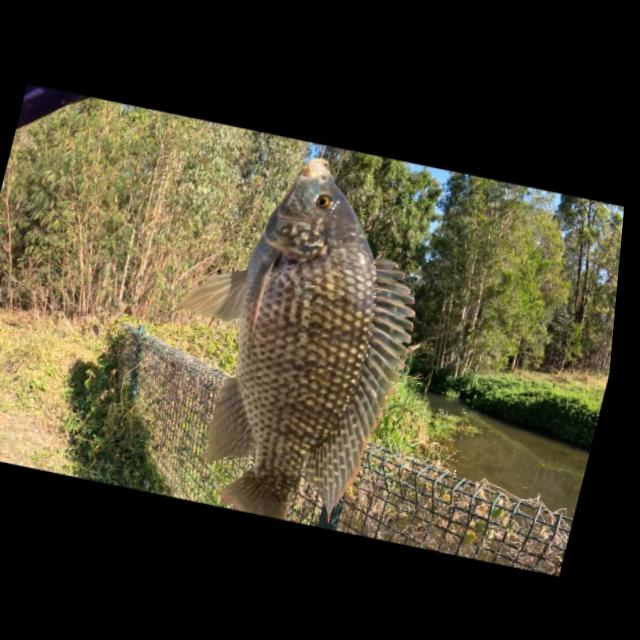Tilapia: (131, 135, 452, 539)
